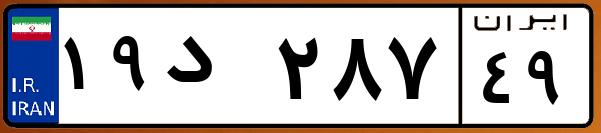1: (57, 26, 110, 100)
2: (270, 28, 330, 110)
4: (475, 38, 525, 113)
7: (385, 28, 445, 110)
8: (330, 28, 385, 110)
9: (525, 38, 570, 115), (110, 28, 158, 98)
د: (158, 20, 270, 120)
